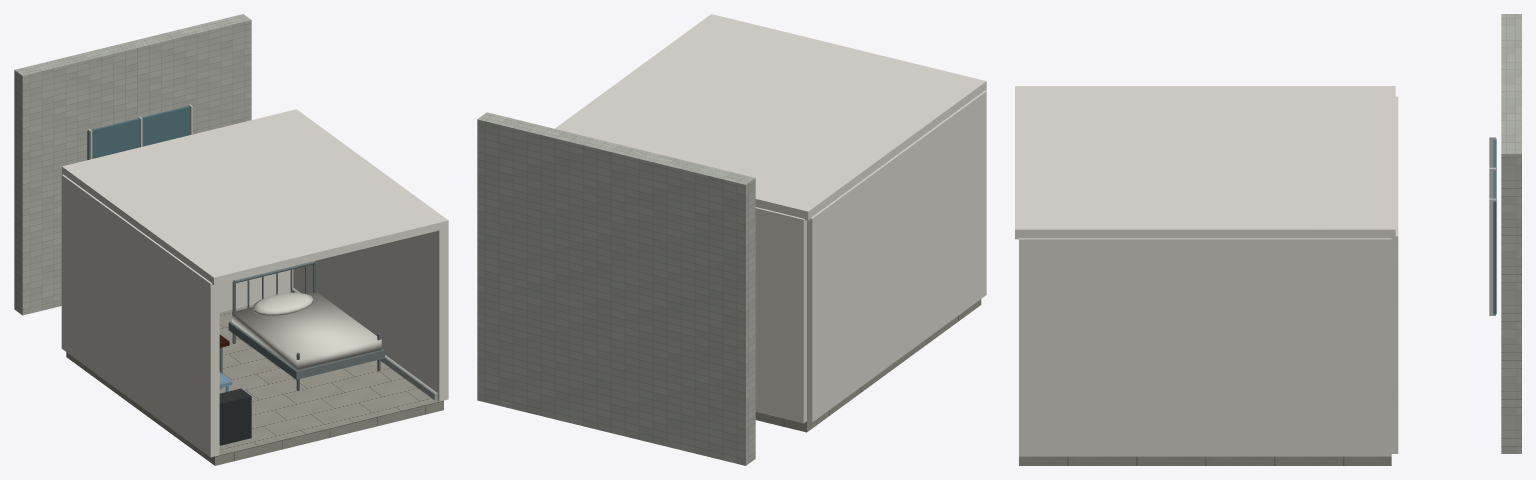
File: room.glb
3 views of the same model, side by side, from view 1: azimuth 30°, elevation 25°; view 2: azimuth 150°, elevation 25°; view 3: azimuth 270°, elevation 25° (orthographic). The views are drawn at different scales.
Parts seen in each view (by area): view 1: room_paint, room_ceramic, room_paving, room_linen, room_glass, room_steel, room_rubber, room_trim; view 2: room_paint, room_ceramic, room_paving; view 3: room_paint, room_ceramic, room_paving, room_aluminium, room_glass.
Part boxes in pixels (x1,y1,x2,y2): room_paint: [61, 109, 448, 457]; room_ceramic: [14, 14, 251, 315]; room_paving: [66, 304, 443, 465]; room_linen: [232, 292, 381, 370]; room_glass: [87, 106, 189, 159]; room_steel: [219, 261, 384, 390]; room_rubber: [219, 388, 251, 445]; room_trim: [219, 287, 437, 452]; room_paint: [555, 14, 986, 423]; room_ceramic: [477, 112, 755, 465]; room_paving: [755, 299, 981, 432]; room_paint: [1015, 86, 1398, 456]; room_ceramic: [1501, 14, 1521, 453]; room_paving: [1019, 456, 1391, 465]; room_aluminium: [1489, 137, 1495, 315]; room_glass: [1493, 138, 1496, 314].
Bounding box in the file's own units: 4.16 × 4.16 × 6.12.
14 materials, 3 textured.
